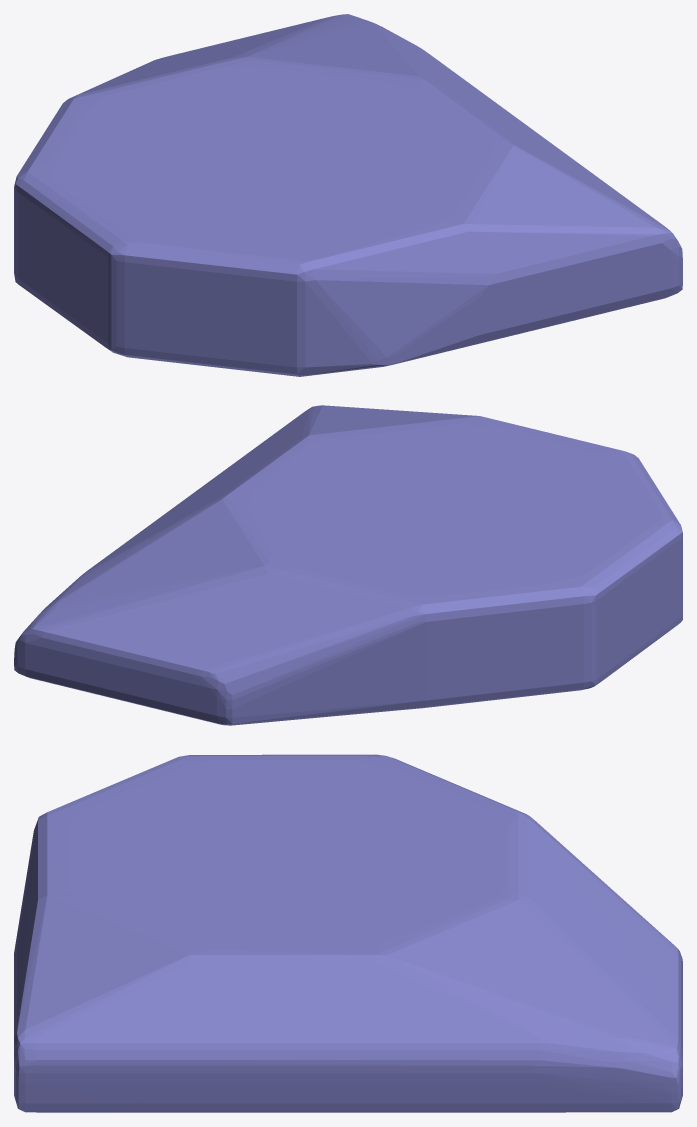
Rendered from left_knee_link_part_12.obj.
3 renders of one model, top to bottom at view 1: azimuth 30°, elevation 25°; view 2: azimuth 150°, elevation 25°; view 3: azimuth 270°, elevation 25°, orthographic. The views are drawn at different scales.
Size of the model in its own units: 0.1045 by 0.023 by 0.1176.
